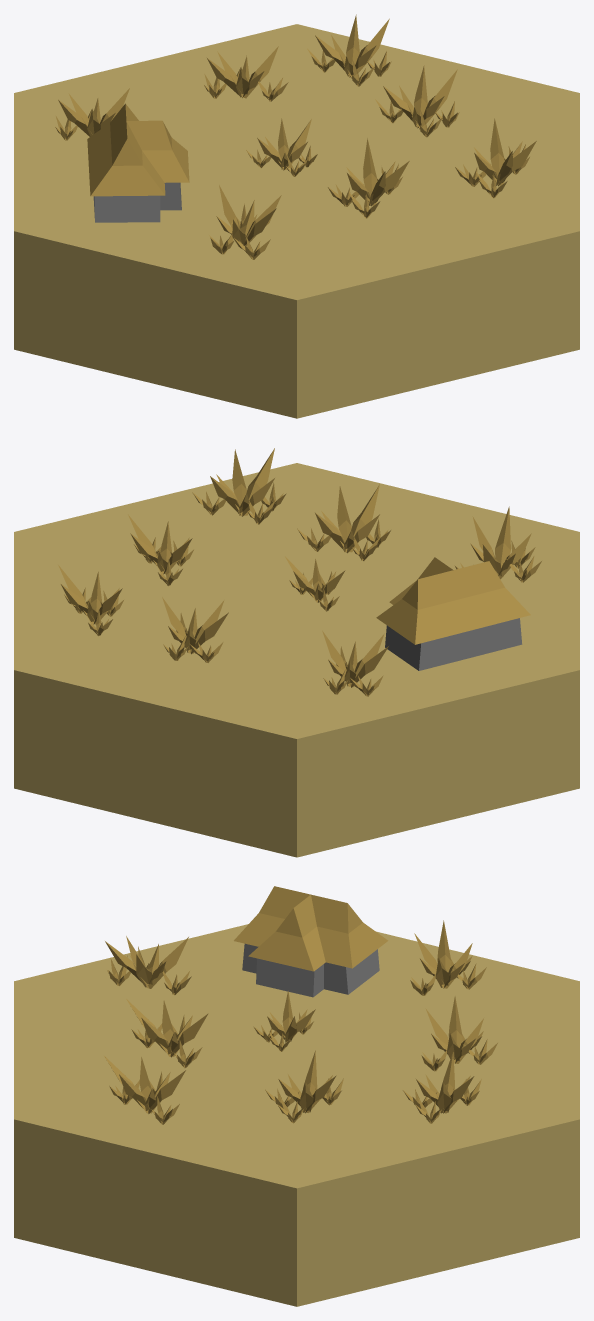
File: Casas_Arido_1.fbx
3 views of the same model, one above another, from view 1: azimuth 30°, elevation 25°; view 2: azimuth 150°, elevation 25°; view 3: azimuth 270°, elevation 25° (orthographic).
Parts seen in each view (by area): view 1: Casas_Arido_1; view 2: Casas_Arido_1; view 3: Casas_Arido_1.
Boxes of the visible parts, x1,y1,x2,y2 form: Casas_Arido_1: (14, 14, 579, 418); Casas_Arido_1: (14, 448, 579, 857); Casas_Arido_1: (14, 886, 579, 1306).
Bounding box in the file's own units: 200 × 65.63 × 173.
